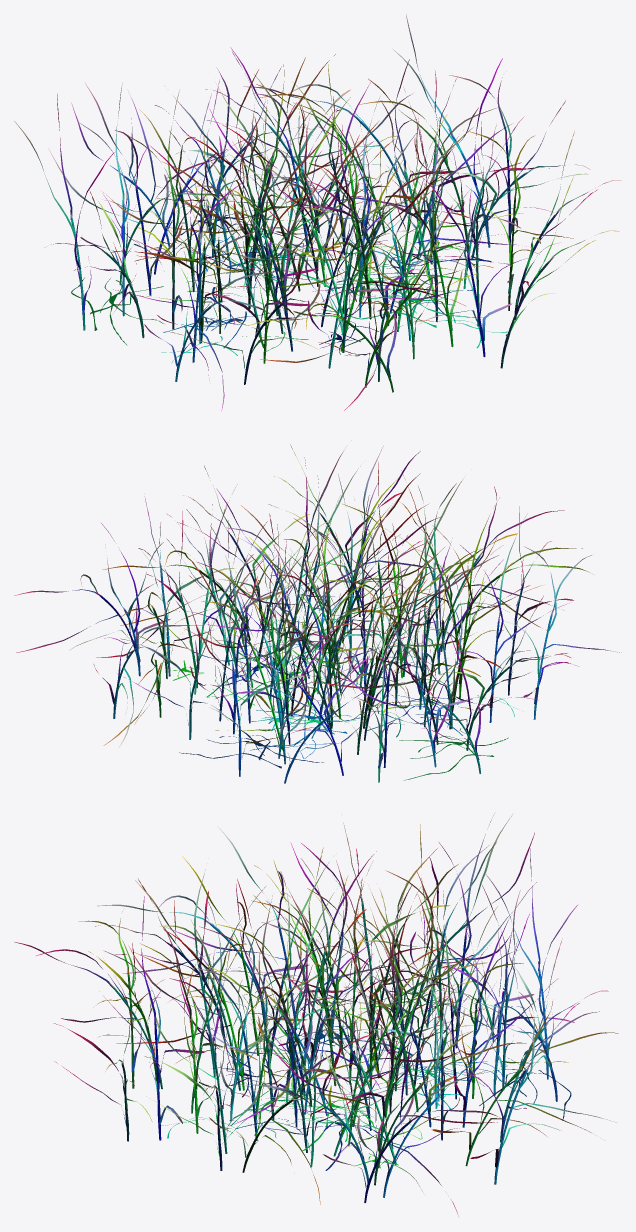
The model's file is Kikuyu_Grass_wiljearqx_Raw_wiljearqx_VarF_LOD0.fbx.
3 views of the same model, one above another, from view 1: azimuth 30°, elevation 25°; view 2: azimuth 150°, elevation 25°; view 3: azimuth 270°, elevation 25° (orthographic). The views are drawn at different scales.
Parts seen in each view (by area): view 1: _op2y_VarF_High; view 2: _op2y_VarF_High; view 3: _op2y_VarF_High.
Part boxes in pixels (x1=…): _op2y_VarF_High: x1=14, y1=14, x2=621, y2=411; _op2y_VarF_High: x1=14, y1=444, x2=621, y2=783; _op2y_VarF_High: x1=14, y1=813, x2=618, y2=1216.
Bounding box in the file's own units: 90.58 × 34.05 × 84.53.
